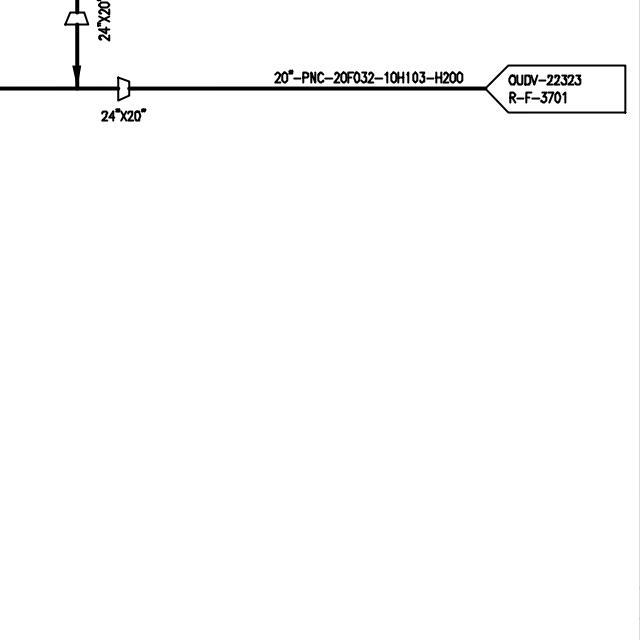SP: (62, 8, 90, 27), (115, 73, 133, 102)
